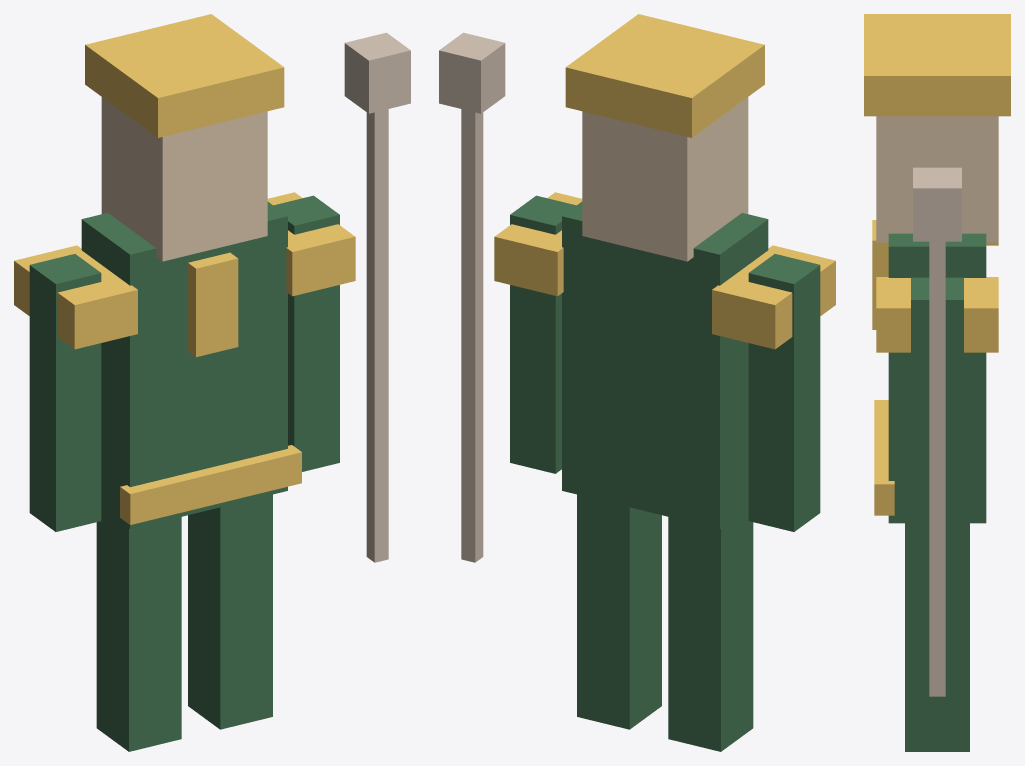
The model's file is 06_vexa_ironwake_scout_of_listening.glb.
3 views of the same model, side by side, from view 1: azimuth 30°, elevation 25°; view 2: azimuth 150°, elevation 25°; view 3: azimuth 270°, elevation 25° (orthographic).
Parts seen in each view (by area): view 1: Vexa Ironwake, Scout of Listening; view 2: Vexa Ironwake, Scout of Listening; view 3: Vexa Ironwake, Scout of Listening.
Boxes of the visible parts, x1,y1,x2,y2 form: Vexa Ironwake, Scout of Listening: (14,14,410,751); Vexa Ironwake, Scout of Listening: (439,14,835,751); Vexa Ironwake, Scout of Listening: (864,14,1010,751).
Size of the model in its own units: 0.9417 by 1.68 by 0.334.
